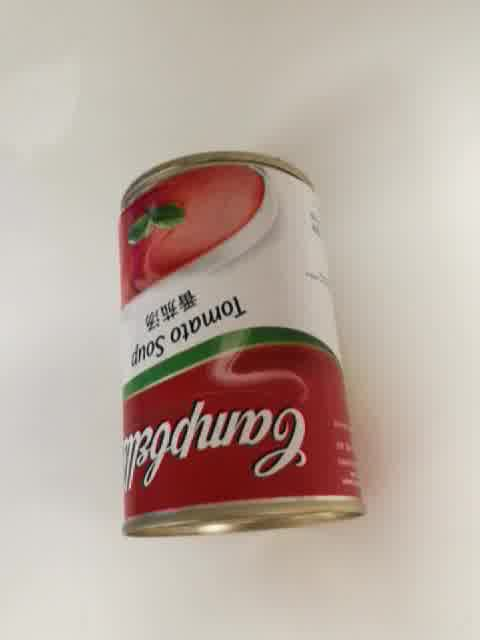tomatosoup: (115, 146, 369, 542)
